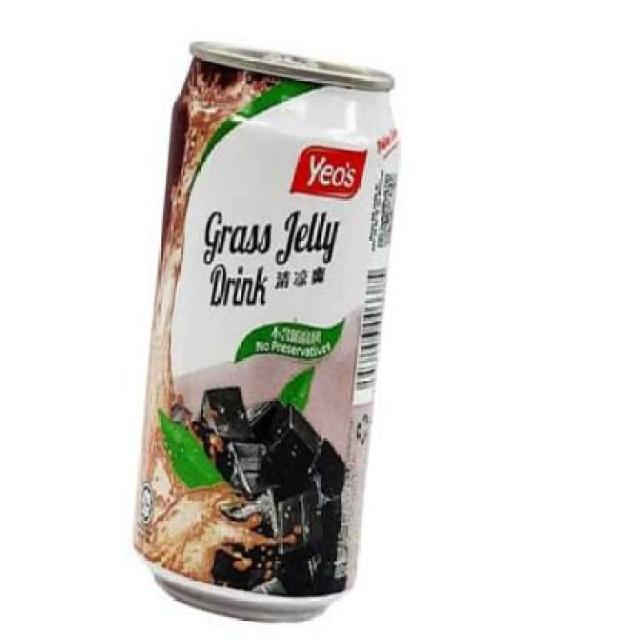Metal: (133, 38, 399, 626)
